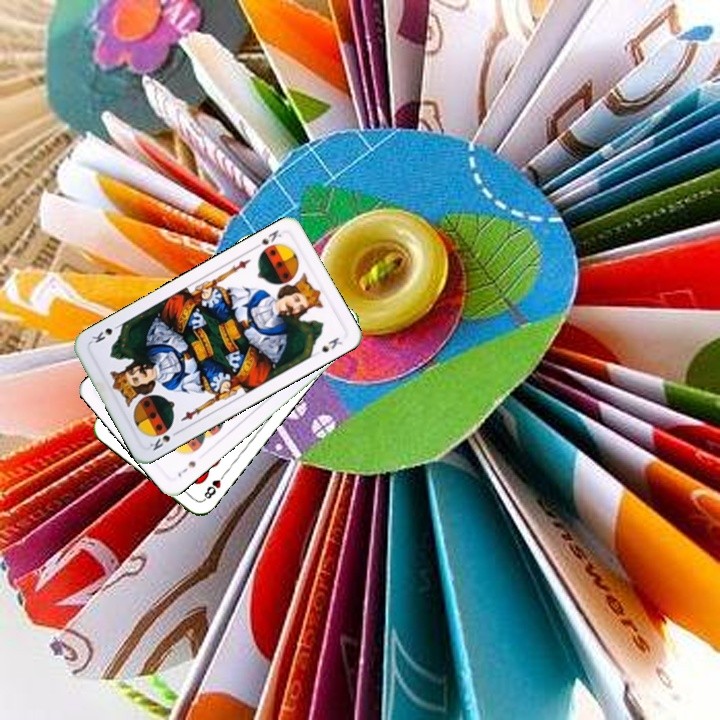H8: (199, 468, 229, 503)
S7: (174, 457, 198, 479)
SK: (145, 426, 183, 453), (249, 225, 284, 252)
